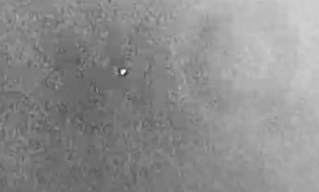Target: (122, 70, 126, 75)
